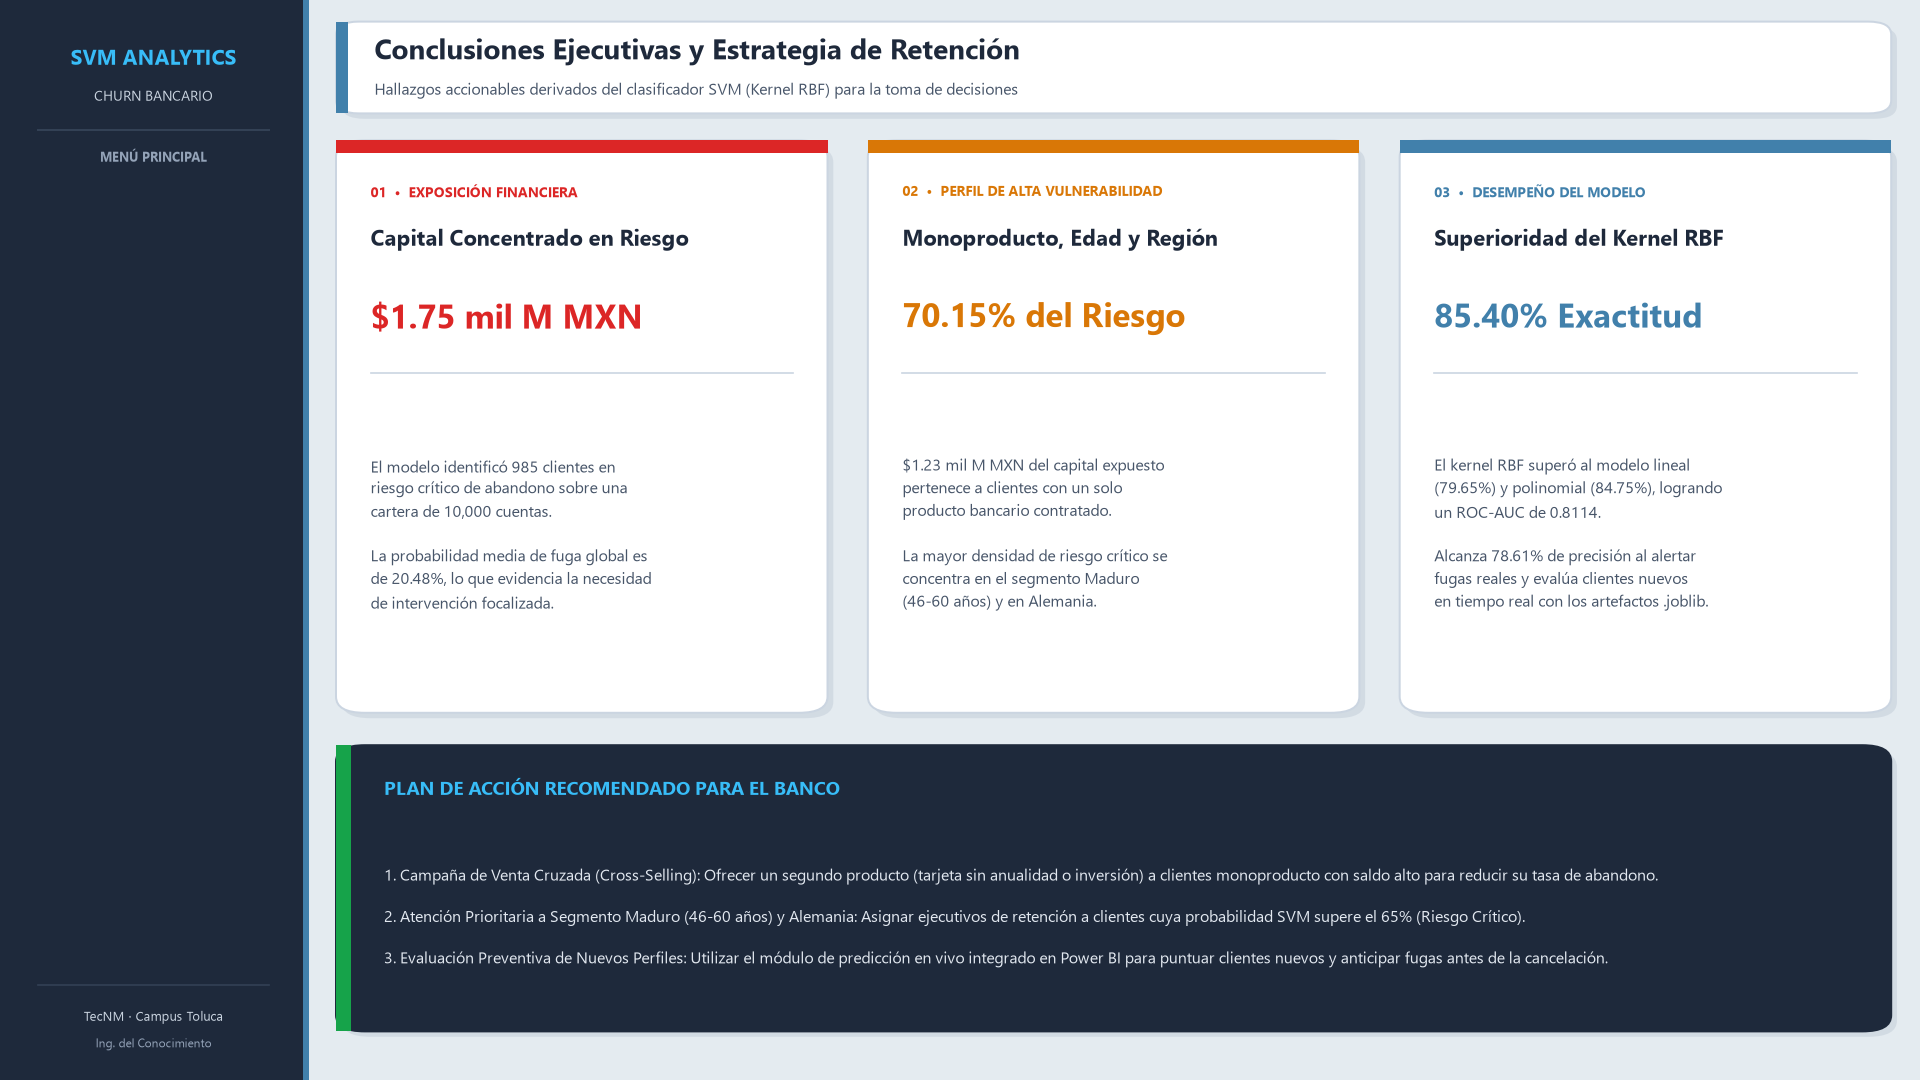

This screenshot's page, from the dashboard's own definition file:
{"tool":"powerbi","page":{"name":"Conclusiones","canvas":[1920,1080],"ordinal":3},"visuals":[{"type":"pageNavigator","box":[52,249.8,188.7,655.8],"z":0}]}

Visuals, with their boxes on the page's 1920x1080 design canvas (x1, y1, x2, y2). These are canvas units, not pixel positions in the 1920x1080 screenshot, which may show the page scaled, cropped or inside an application window:
pageNavigator: rect(52, 250, 241, 906)
